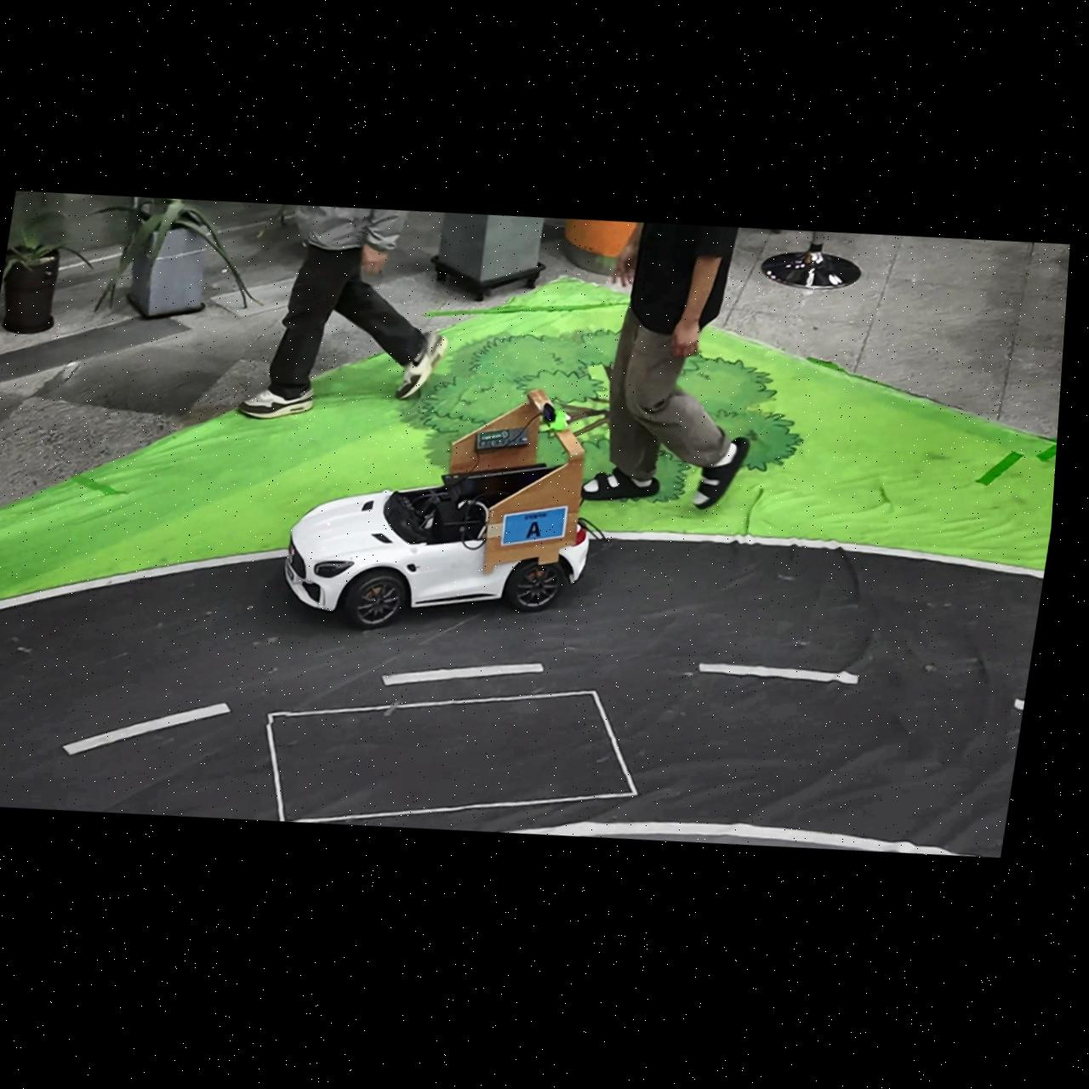broken_line: (63, 703, 232, 754), (383, 663, 544, 686), (698, 663, 858, 684), (1015, 699, 1024, 709)
